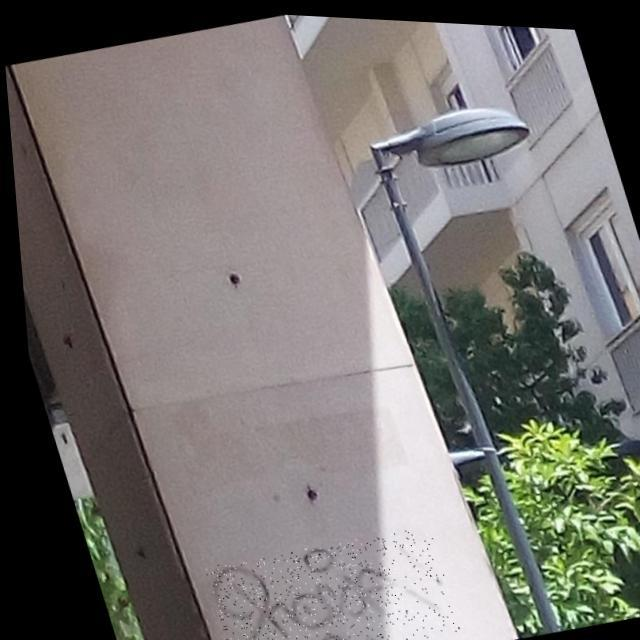-: (190, 511, 452, 640)
